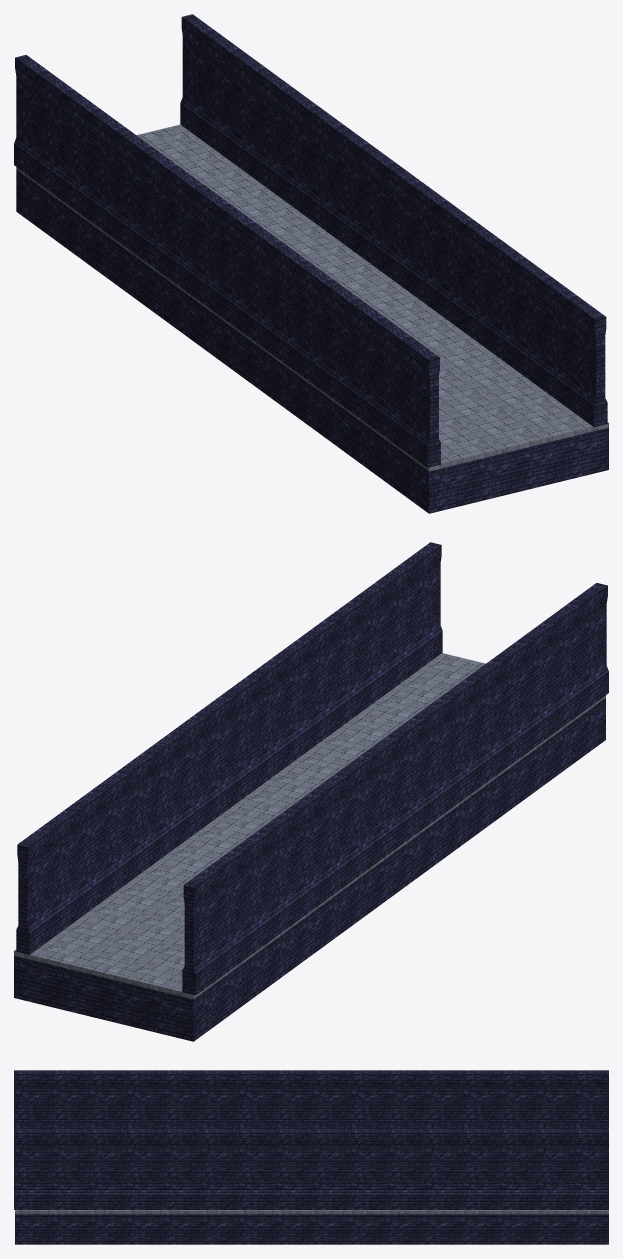
The model's file is corridor-long.glb.
3 views of the same model, one above another, from view 1: azimuth 30°, elevation 25°; view 2: azimuth 150°, elevation 25°; view 3: azimuth 270°, elevation 25° (orthographic). The views are drawn at different scales.
Parts seen in each view (by area): view 1: wall (×2), floor (×2); view 2: wall (×2), floor (×2); view 3: wall (×2), floor (×2).
Boxes of the visible parts, x1,y1,x2,y2 form: wall (×2): (14, 14, 607, 467); floor (×2): (16, 124, 608, 513); wall (×2): (16, 542, 608, 995); floor (×2): (14, 653, 605, 1041); wall (×2): (14, 1070, 608, 1209); floor (×2): (15, 1210, 608, 1244).
Bounding box in the file's own units: 4.05 × 3.28 × 15.93.
8 materials, 8 textured.
